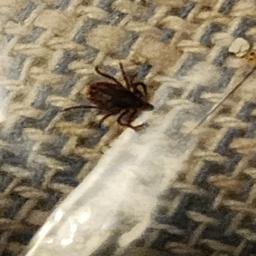Rhipicephalus sanguineus: (62, 62, 154, 130)
